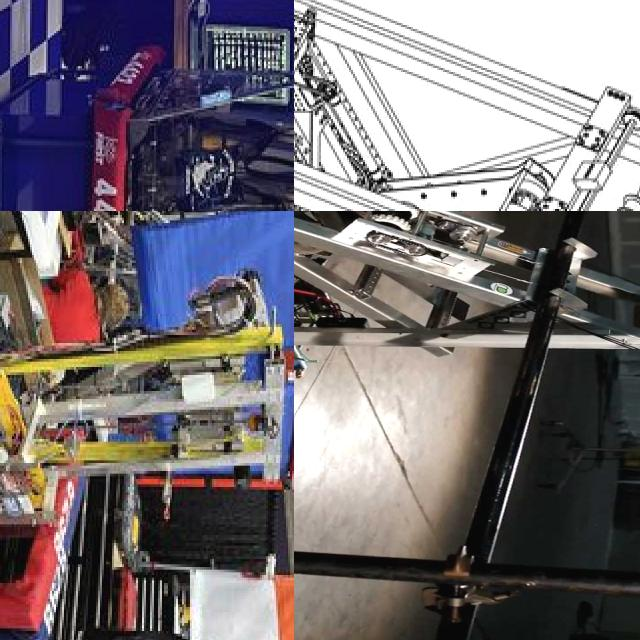FRC-Robots: (0, 223, 294, 577), (294, 0, 640, 211), (294, 211, 640, 394), (56, 62, 294, 211)
